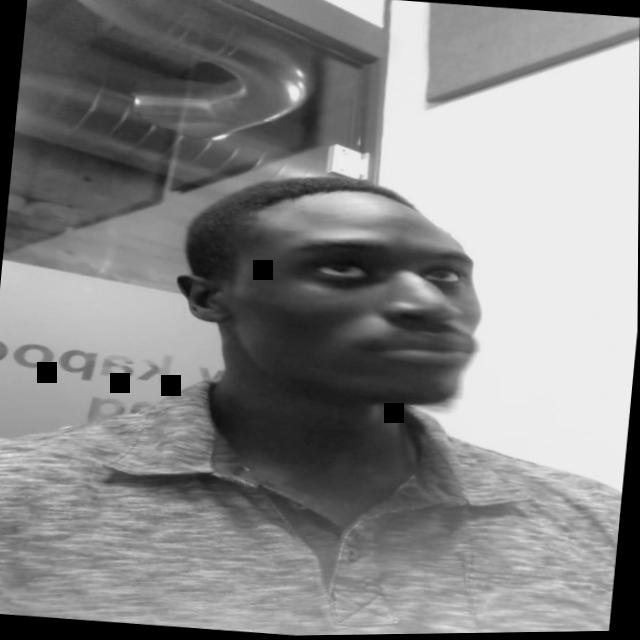NO-Mask: (211, 197, 493, 417)
